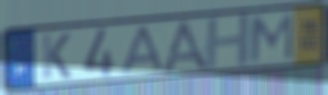4: (82, 25, 118, 80)
A: (158, 18, 214, 73), (119, 24, 167, 76)
H: (204, 12, 253, 72)
K: (40, 31, 73, 81)
M: (248, 11, 295, 64)
